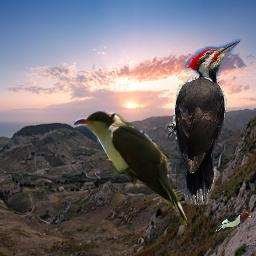Cuckoo: (71, 111, 187, 226)
Woodpecker: (159, 38, 246, 205), (213, 210, 254, 234)
